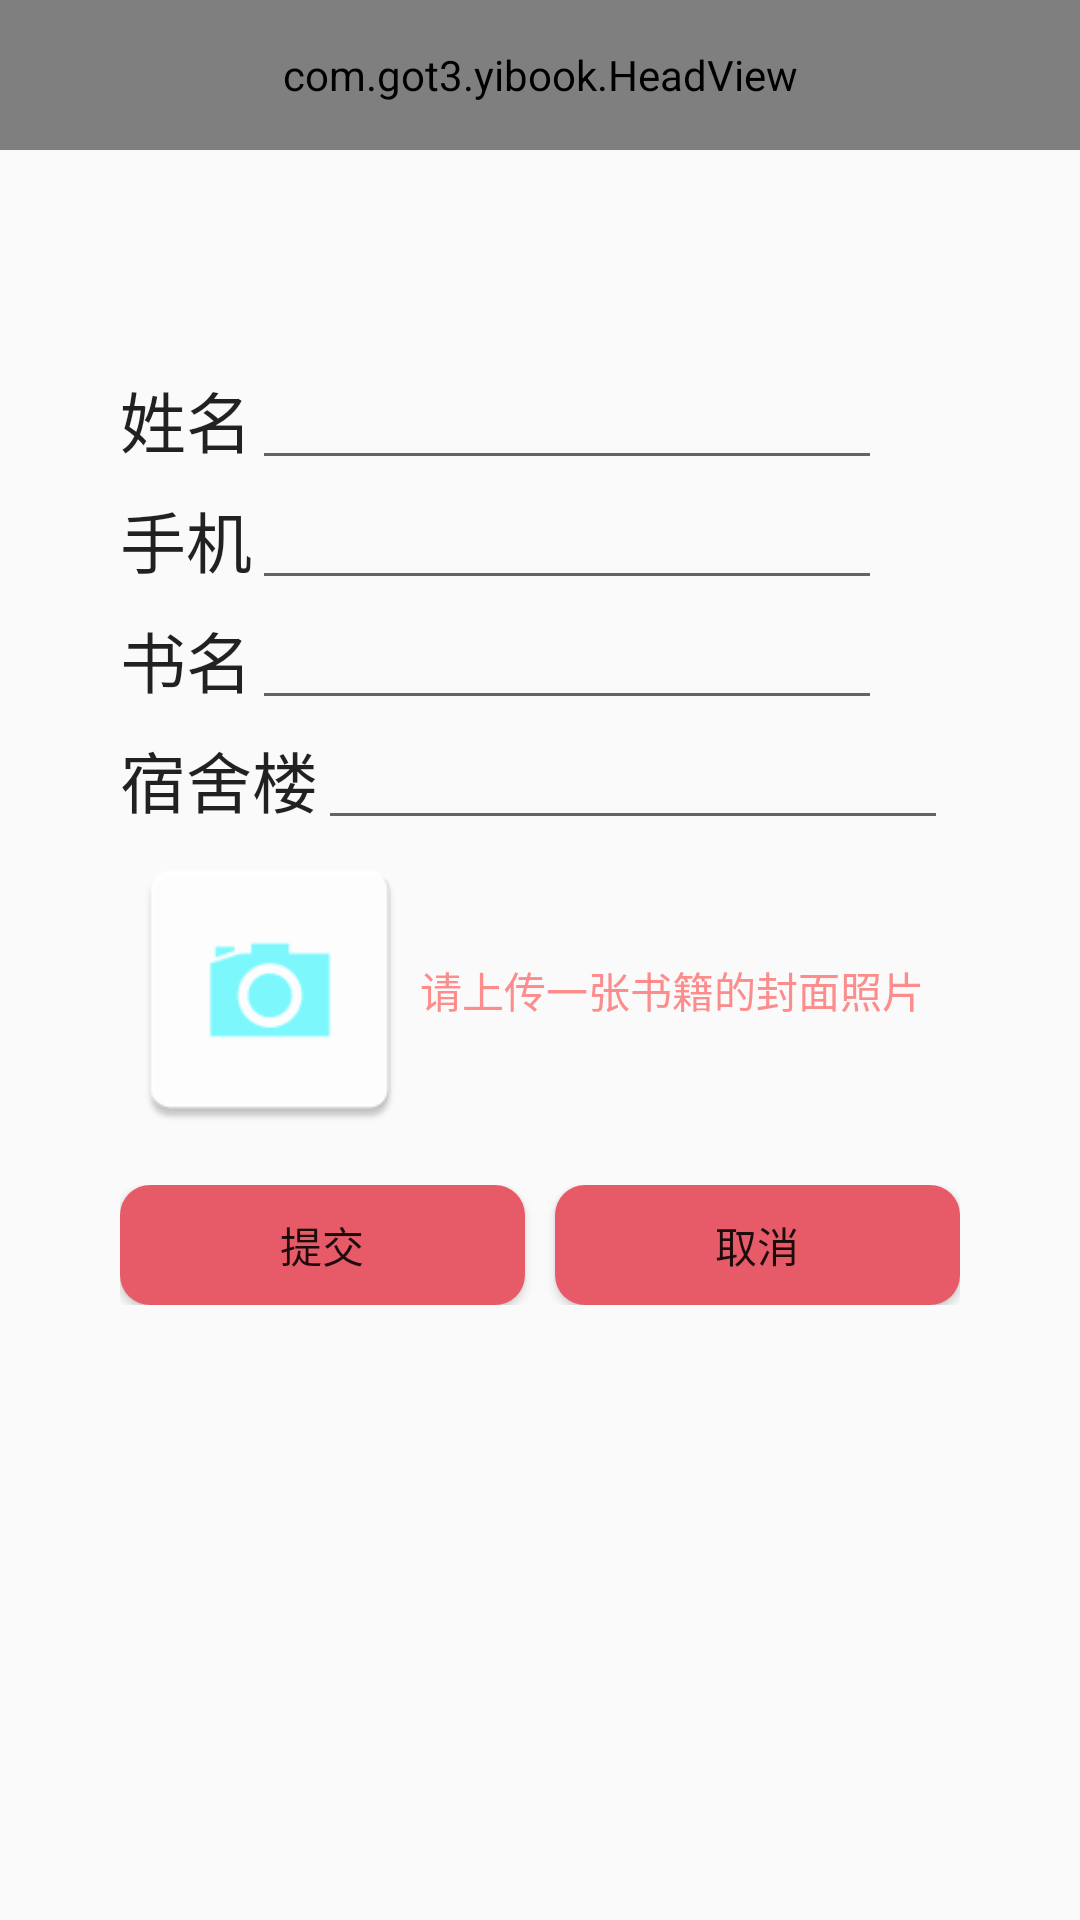

Where icons sit on this 1080×1920 app screen, as detection(x1, y1, x2, y2):
photo: detection(151, 885, 390, 1116)
